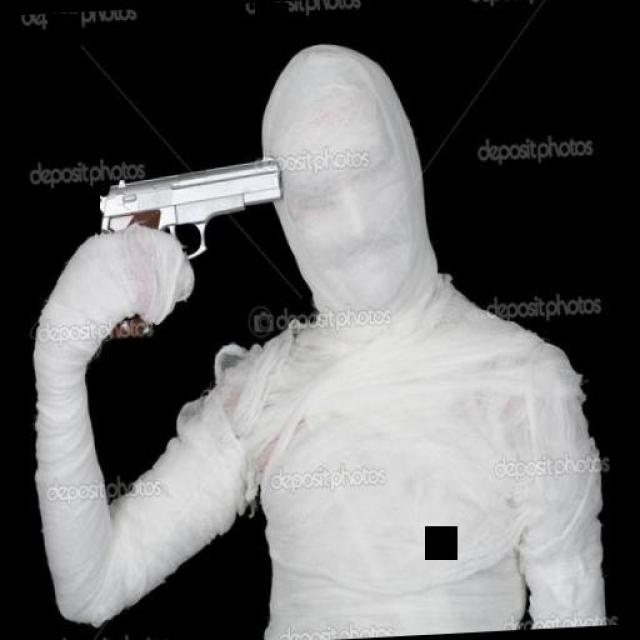gun: (82, 145, 296, 347)
